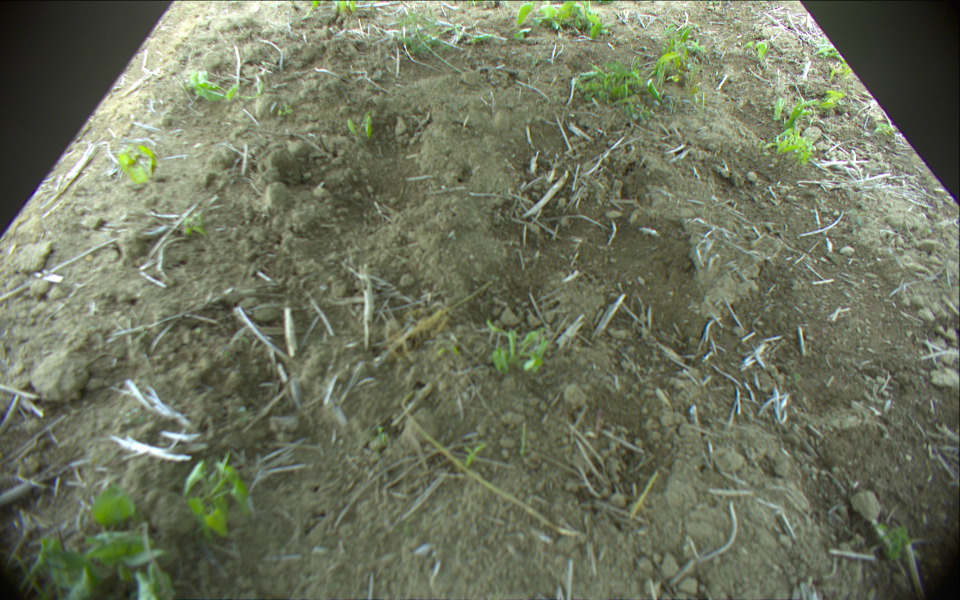aspa: (400, 393, 590, 540)
